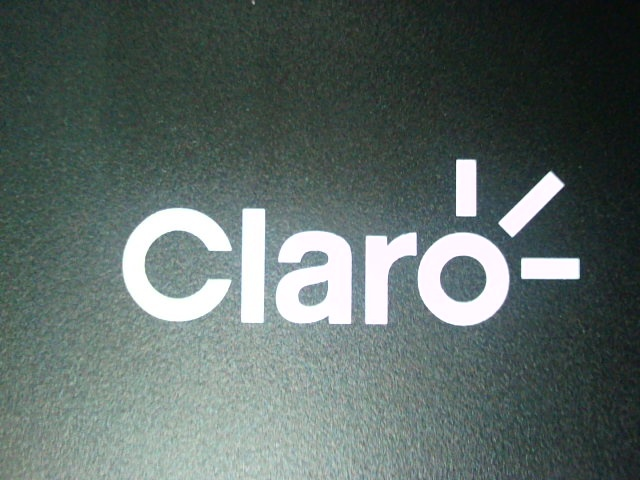BC_Claor: (104, 146, 596, 345)
